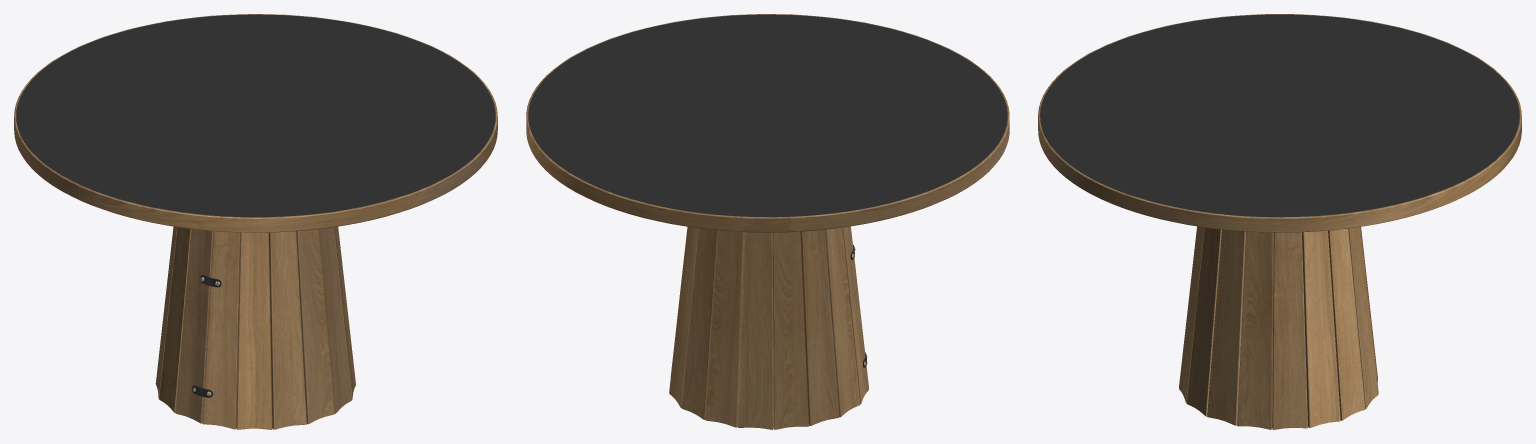
The model's file is 002740ba-6fca-4258-b631-cf031c2adbdc_test.glb.
3 renders of one model, left to right at view 1: azimuth 30°, elevation 25°; view 2: azimuth 150°, elevation 25°; view 3: azimuth 270°, elevation 25°, orthographic.
Parts seen in each view (by area): view 1: raw_model.obj; view 2: raw_model.obj; view 3: raw_model.obj.
Boxes of the visible parts, left/top/right/bottom form: raw_model.obj: left=14, top=14, right=497, bottom=429; raw_model.obj: left=526, top=14, right=1009, bottom=429; raw_model.obj: left=1038, top=14, right=1521, bottom=429.
Size of the model in its own units: 1.2 by 0.7457 by 1.2.
Materials: 1 (1 with a texture image).
